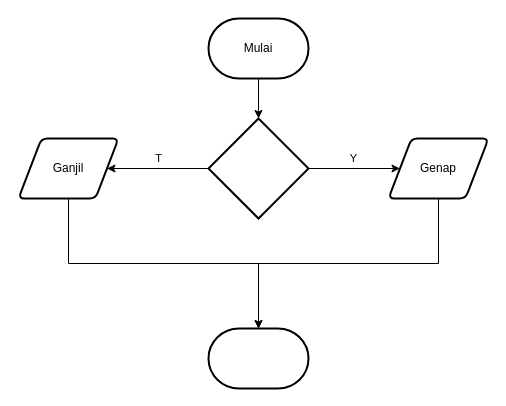
The diagram is 506 pixels wide and 406 high, and some of its shapes have lost their labels. The centre of each missing label's shape, as x and y in pixels:
Bilangan%2=0: point 258,168
Selesai: point 258,358
